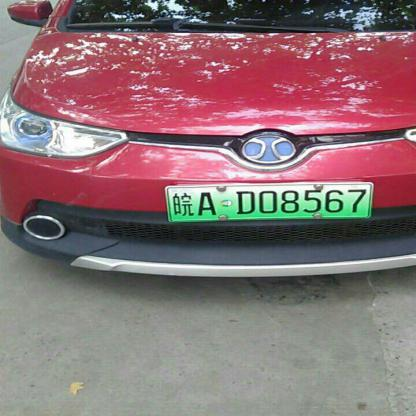lp: (165, 182, 375, 221)
